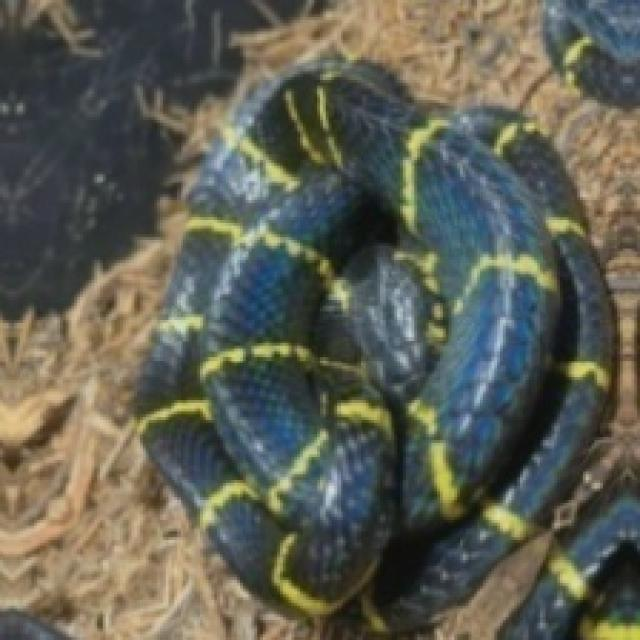mangrove cat snake: (134, 0, 637, 637), (137, 57, 611, 629)
